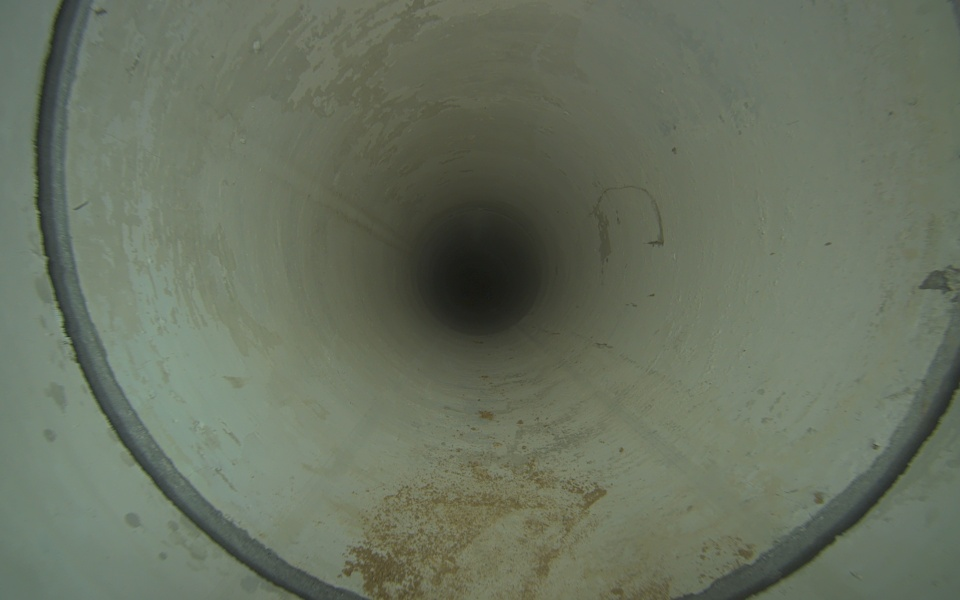circle1: (31, 0, 958, 599)
circle2: (453, 257, 498, 299)
